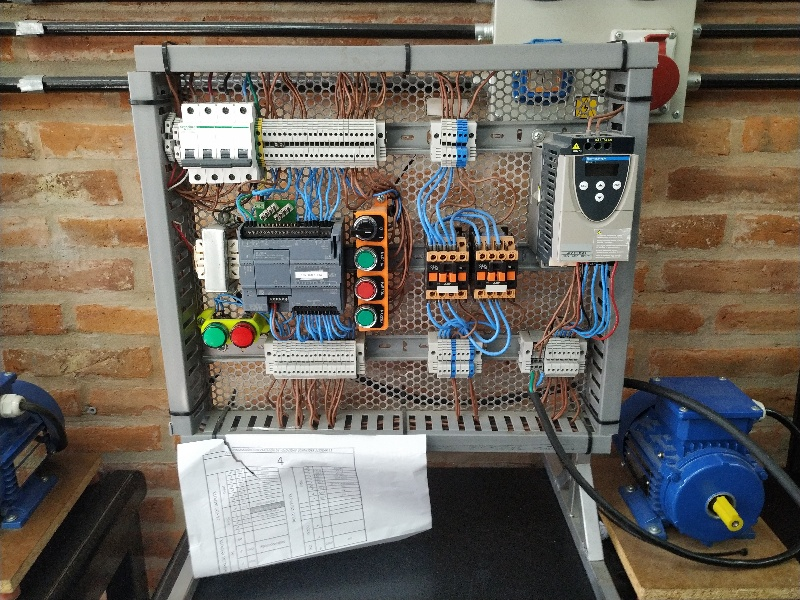Tablero 4: (133, 59, 640, 442)
